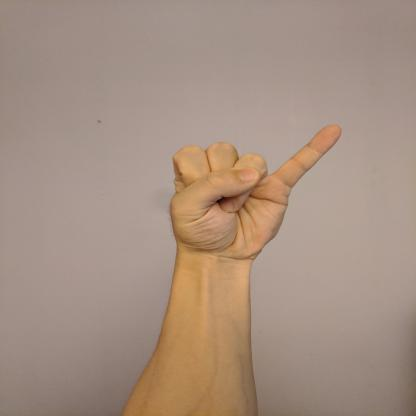I: (164, 122, 346, 260)
